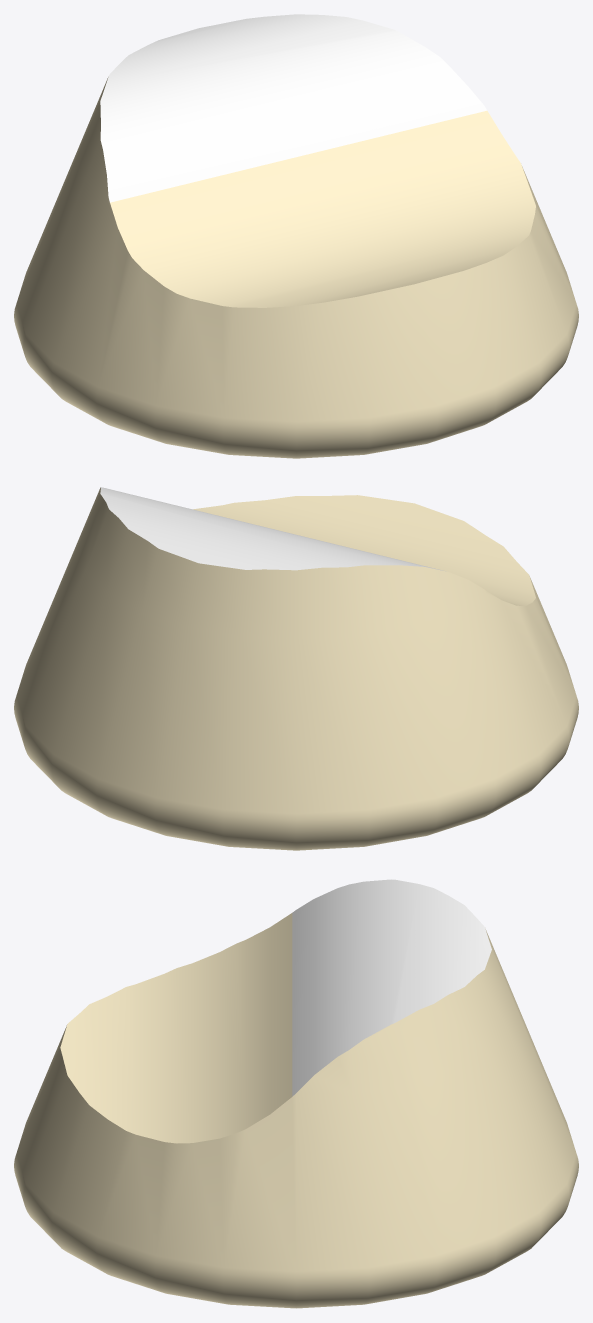
The model's file is liquid.fbx.
3 renders of one model, top to bottom at view 1: azimuth 30°, elevation 25°; view 2: azimuth 150°, elevation 25°; view 3: azimuth 270°, elevation 25°, orthographic.
Parts seen in each view (by area): view 1: Model; view 2: Model; view 3: Model.
Boxes of the visible parts, bbox=[...] form: Model: bbox=[14, 14, 578, 458]; Model: bbox=[14, 487, 578, 850]; Model: bbox=[14, 879, 578, 1308].
Bounding box in the file's own units: 13.79 × 6.93 × 13.79.
